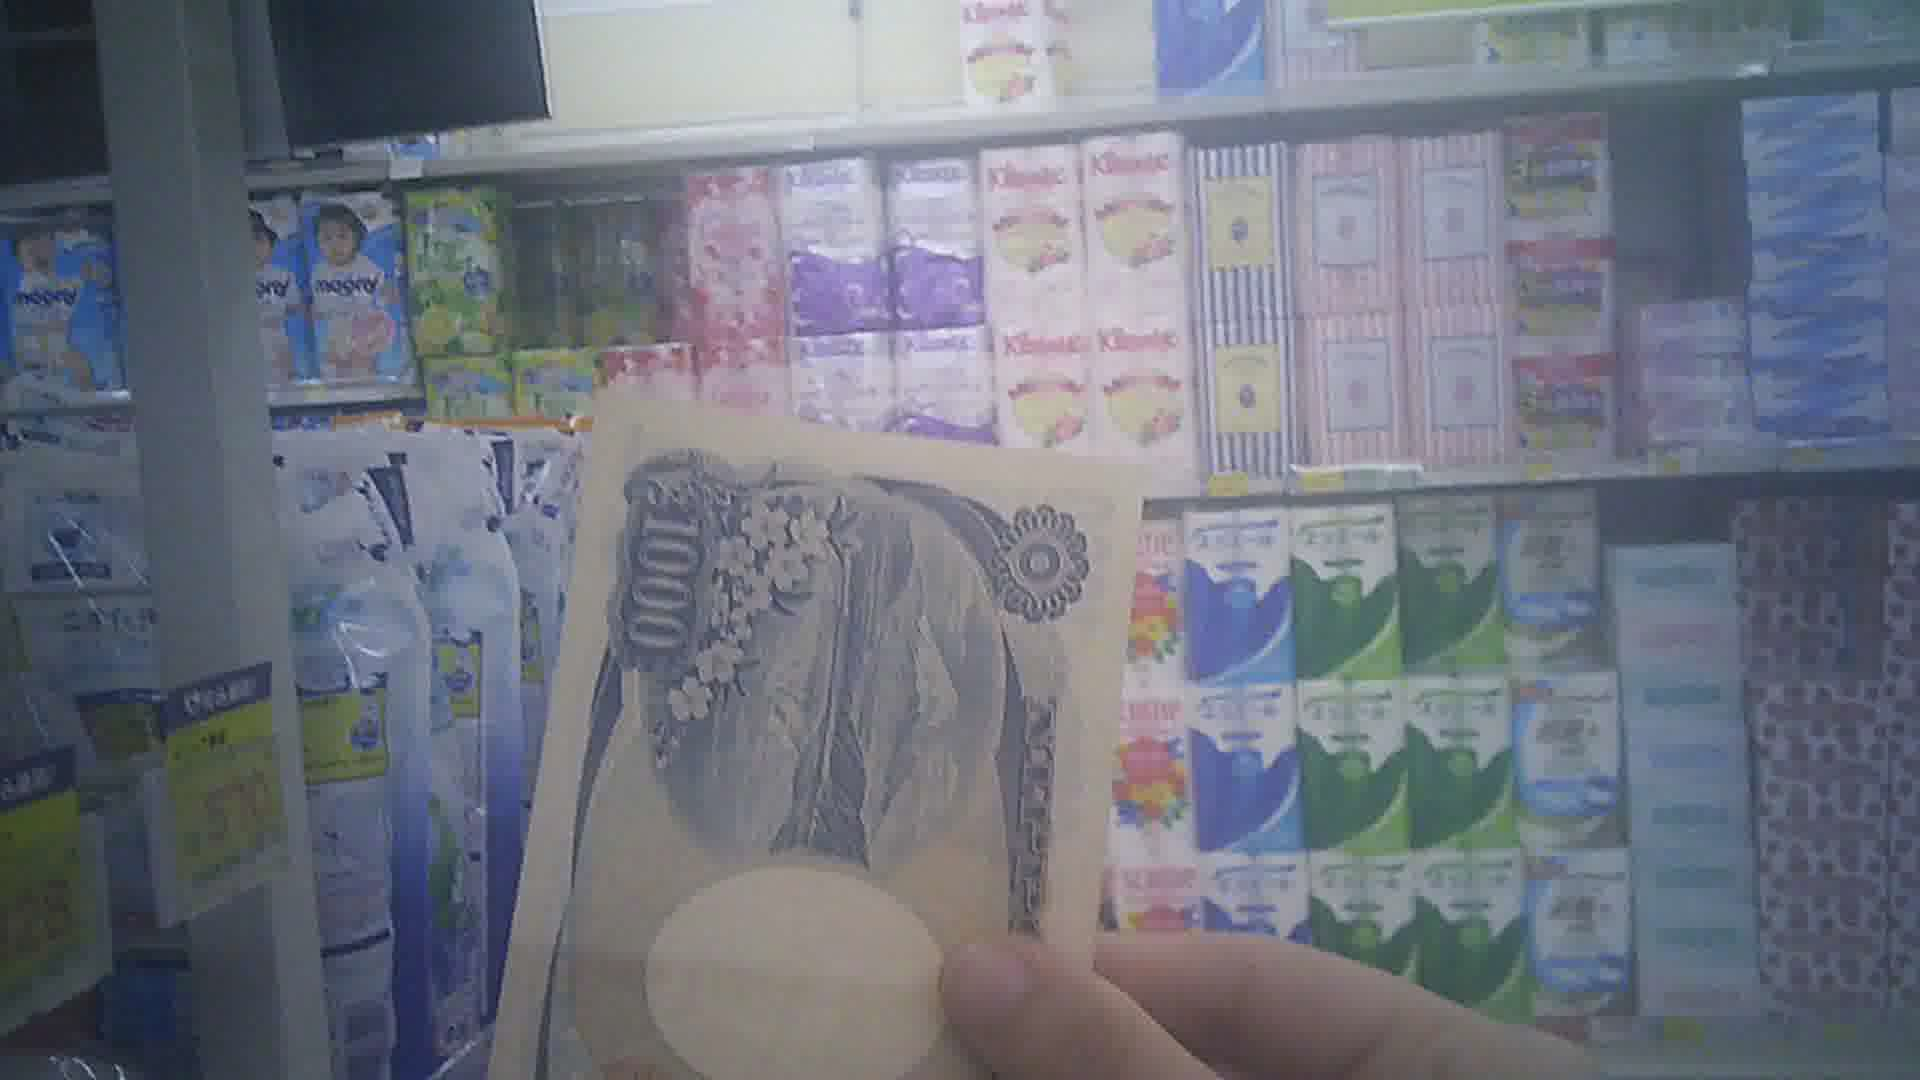1,000 Yen: (513, 380, 1145, 1079)
